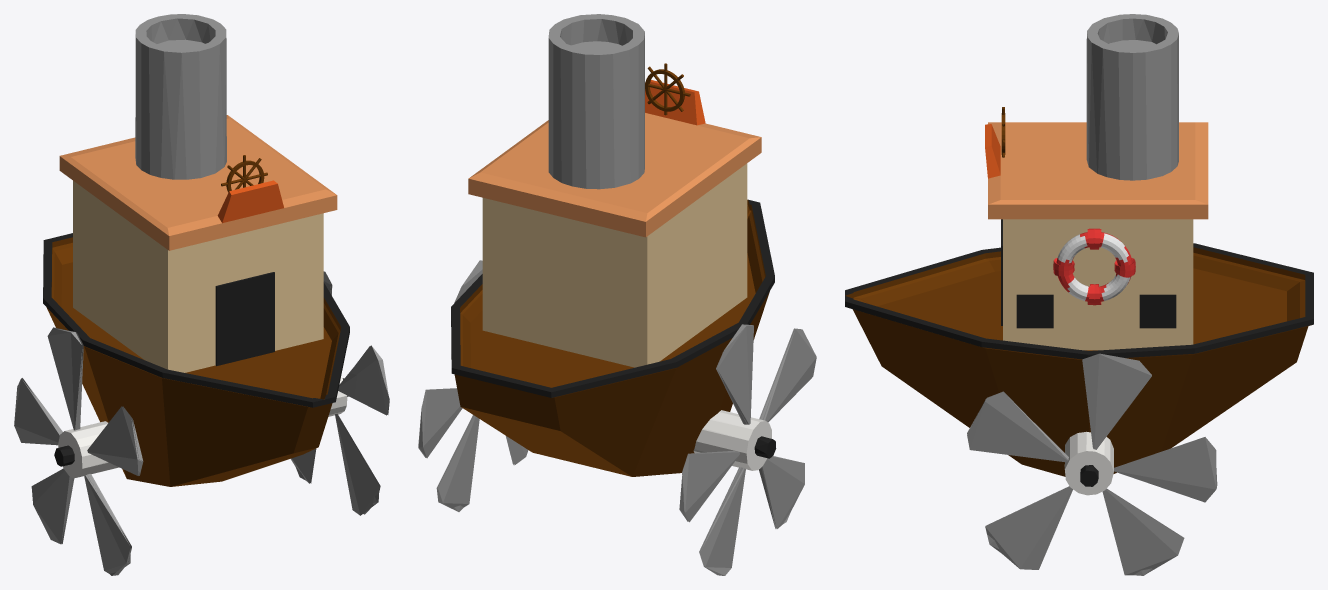
File: steamboat.glb
The picture shows the model from 3 angles, left to right: view 1: azimuth 30°, elevation 25°; view 2: azimuth 150°, elevation 25°; view 3: azimuth 270°, elevation 25°; orthographic projection. The views are drawn at different scales.
Parts seen in each view (by area): view 1: Cube.001, Cube, Cylinder, wheel2, Cube.006, wheel1, wheelBar, timao; view 2: Cube.001, Cube, Cylinder, wheel2, wheel1, wheelBar, timao; view 3: Cube, Cube.001, wheel1, Cylinder, Torus, wheelBar, Cube.004, Cube.005.
Boxes of the visible parts, x1=… form: Cube.001: x1=59, y1=115, x2=337, y2=372; Cube: x1=43, y1=233, x2=349, y2=486; Cylinder: x1=135, y1=14, x2=226, y2=179; wheel2: x1=14, y1=327, x2=143, y2=575; Cube.006: x1=215, y1=272, x2=274, y2=366; wheel1: x1=291, y1=271, x2=389, y2=515; wheelBar: x1=54, y1=376, x2=348, y2=478; timao: x1=221, y1=155, x2=267, y2=192; Cube.001: x1=468, y1=80, x2=761, y2=367; Cube: x1=451, y1=199, x2=774, y2=476; Cylinder: x1=548, y1=14, x2=644, y2=189; wheel2: x1=679, y1=324, x2=816, y2=575; wheel1: x1=418, y1=260, x2=528, y2=511; wheelBar: x1=693, y1=410, x2=776, y2=470; timao: x1=645, y1=63, x2=690, y2=115; Cube: x1=845, y1=243, x2=1313, y2=476; Cube.001: x1=985, y1=122, x2=1208, y2=350; wheel1: x1=967, y1=353, x2=1217, y2=575; Cylinder: x1=1086, y1=14, x2=1178, y2=180; Torus: x1=1053, y1=228, x2=1135, y2=305; wheelBar: x1=1064, y1=431, x2=1113, y2=495; Cube.004: x1=1016, y1=294, x2=1053, y2=328; Cube.005: x1=1139, y1=294, x2=1176, y2=328.
Size of the model in its own units: 1.61 by 2.56 by 2.26.
